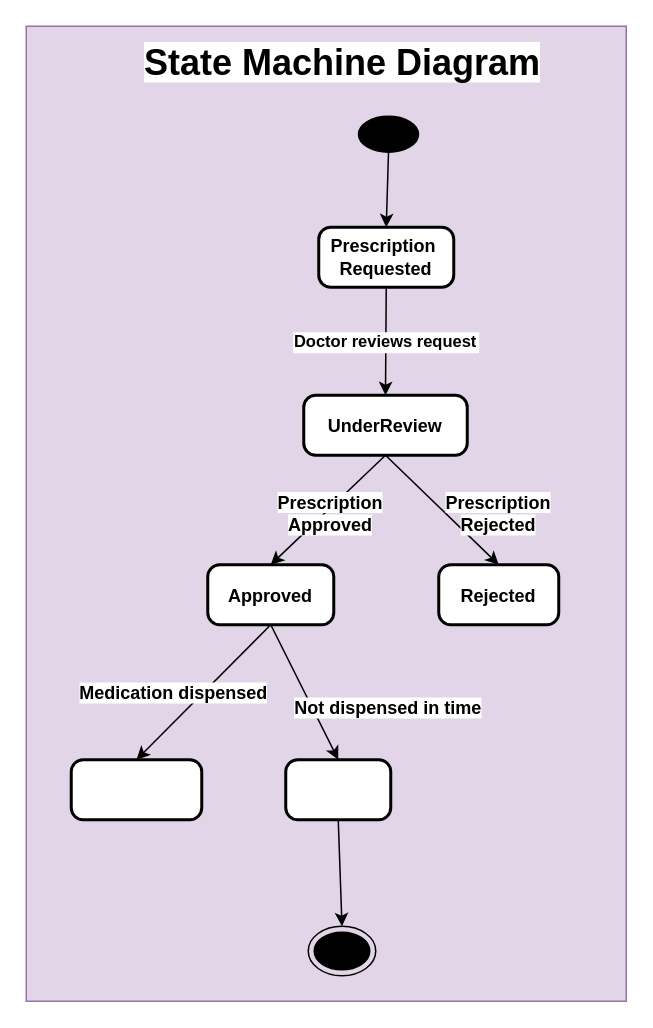
This 653x1028 diagram has some shape labels left out. Each missing label, with the centre of its shape:
"Dispensed" belongs at (x=135, y=789).
"Expired" belongs at (x=338, y=789).
